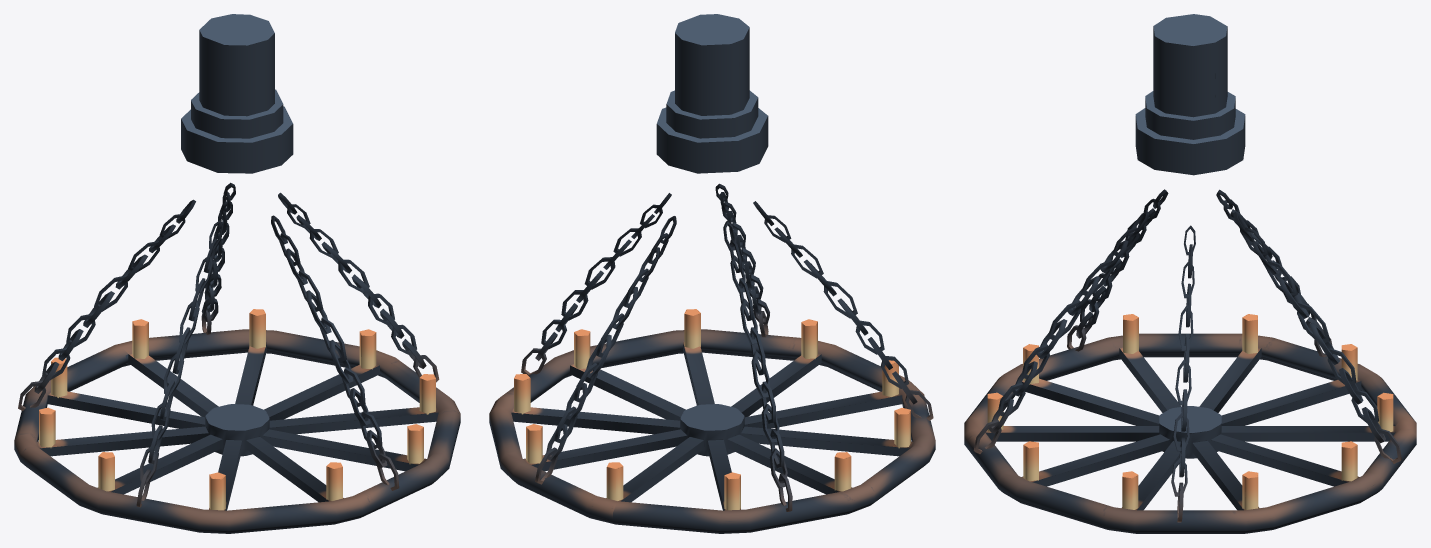
The model's file is _candelabro.fbx.
3 renders of one model, left to right at view 1: azimuth 30°, elevation 25°; view 2: azimuth 150°, elevation 25°; view 3: azimuth 270°, elevation 25°, orthographic.
Visible parts, largest first — view 1: candelabro, candelabro.001; view 2: candelabro, candelabro.001; view 3: candelabro, candelabro.001.
Boxes of the visible parts, x1,y1,x2,y2 form: candelabro: (14,329,460,533); candelabro.001: (18,14,439,510); candelabro: (489,329,935,533); candelabro.001: (514,14,933,511); candelabro: (964,333,1416,533); candelabro.001: (973,14,1401,522).
Bounding box in the file's own units: 343 × 352 × 347.
2 materials, 2 textured.
